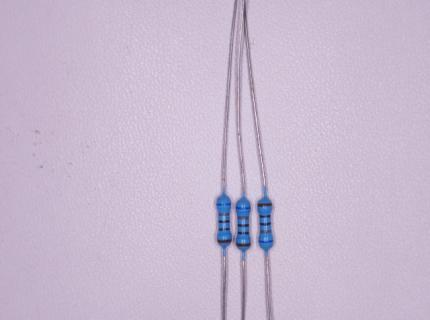Black band: (238, 223, 250, 227), (260, 214, 271, 218), (260, 222, 271, 226), (238, 231, 249, 235), (218, 220, 230, 223), (218, 228, 230, 231)
Blue band: (258, 239, 273, 244), (215, 203, 231, 206), (236, 206, 250, 209)
Brown band: (257, 202, 273, 207), (217, 239, 232, 243), (236, 243, 251, 247)
Grey band: (218, 212, 230, 217), (238, 215, 249, 220), (260, 229, 272, 233)
